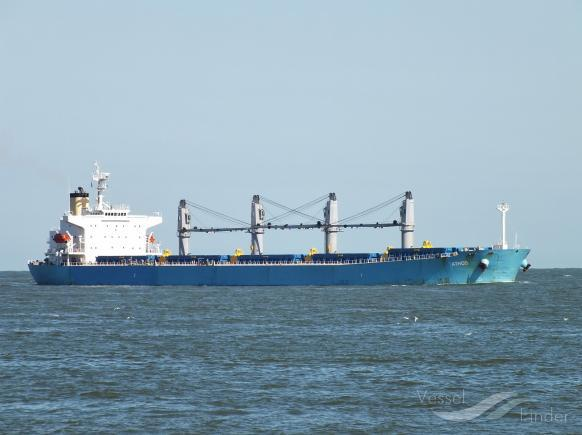OCR: (447, 257, 472, 270)
